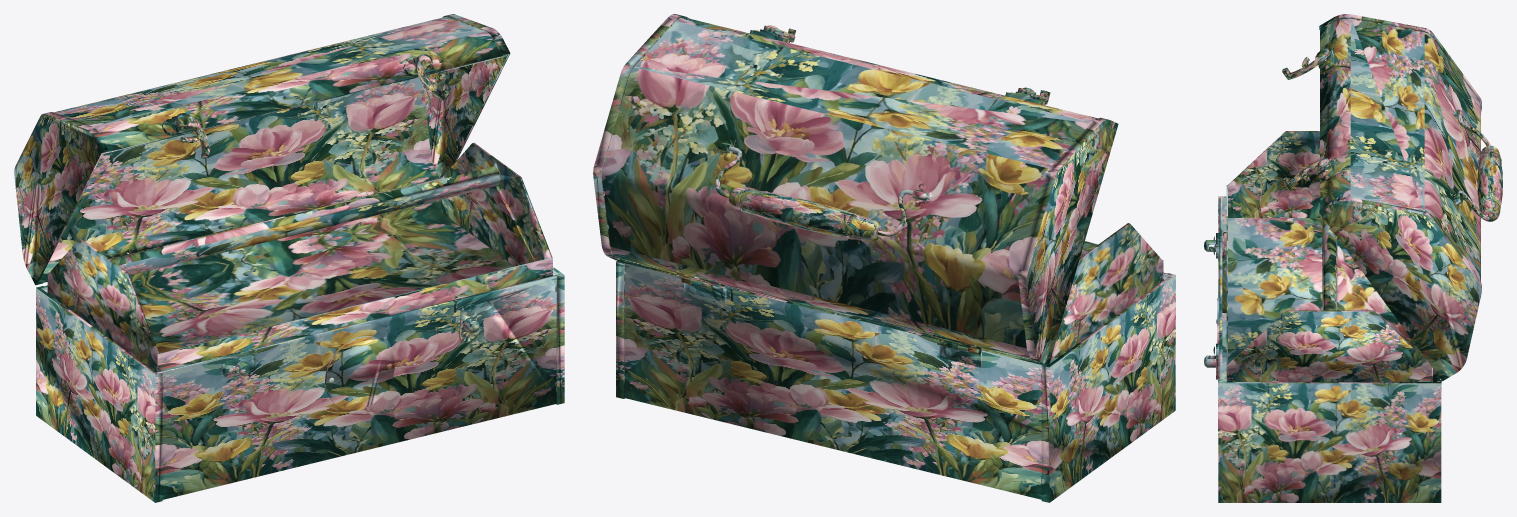
File: ph_metal_toolbox.glb
3 views of the same model, side by side, from view 1: azimuth 30°, elevation 25°; view 2: azimuth 150°, elevation 25°; view 3: azimuth 270°, elevation 25° (orthographic). The views are drawn at different scales.
Visible parts, largest first — view 1: A; view 2: A; view 3: A.
Part boxes in pixels (x1,y1,x2,y2): A: (14, 14, 564, 502); A: (593, 14, 1175, 502); A: (1204, 14, 1502, 502).
Bounding box in the file's own units: 2 × 1.52 × 1.35.
6 materials, 6 textured.
